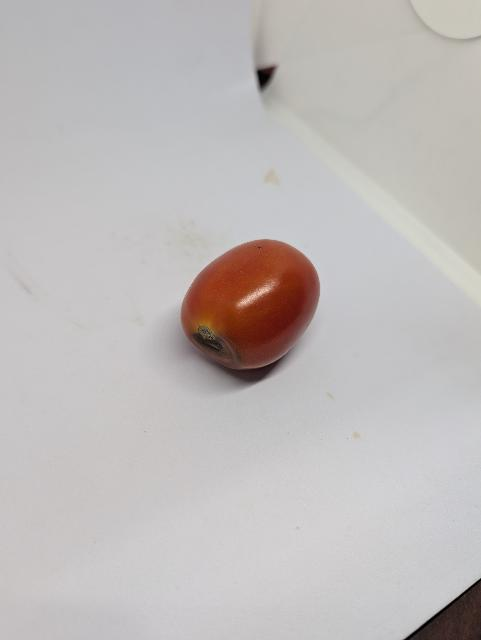defect: (180, 236, 325, 373)
